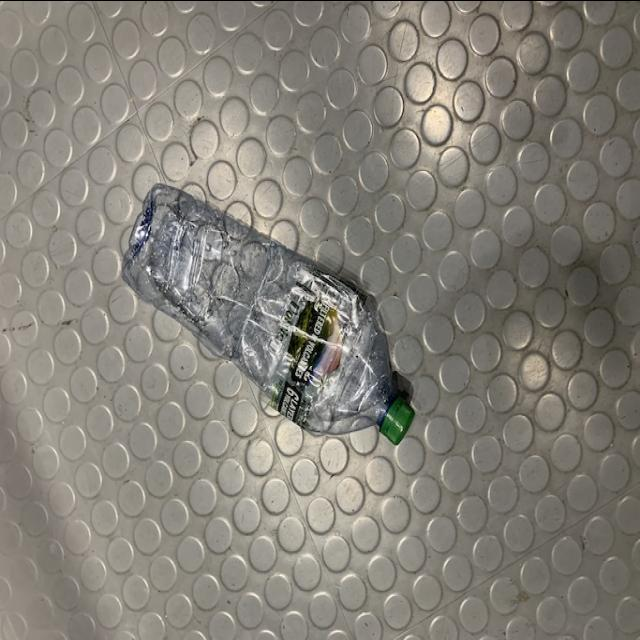PET: (120, 180, 416, 445)
